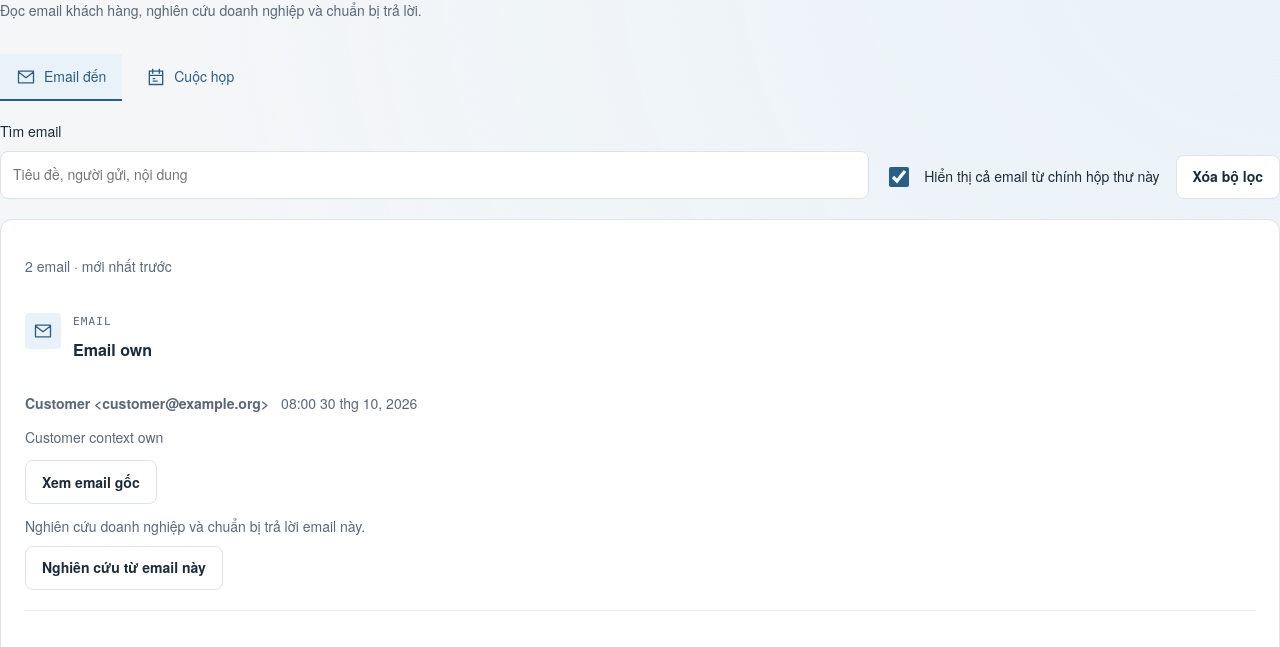
Test: inbox source workspace › filters own-mailbox email and restores the selected filter from the URL
Expected: the heading "Email own" is shown, [73, 338, 152, 360]
Click the checkbox.
click(899, 177)  # box [889, 167, 909, 187]
(page scrolled)
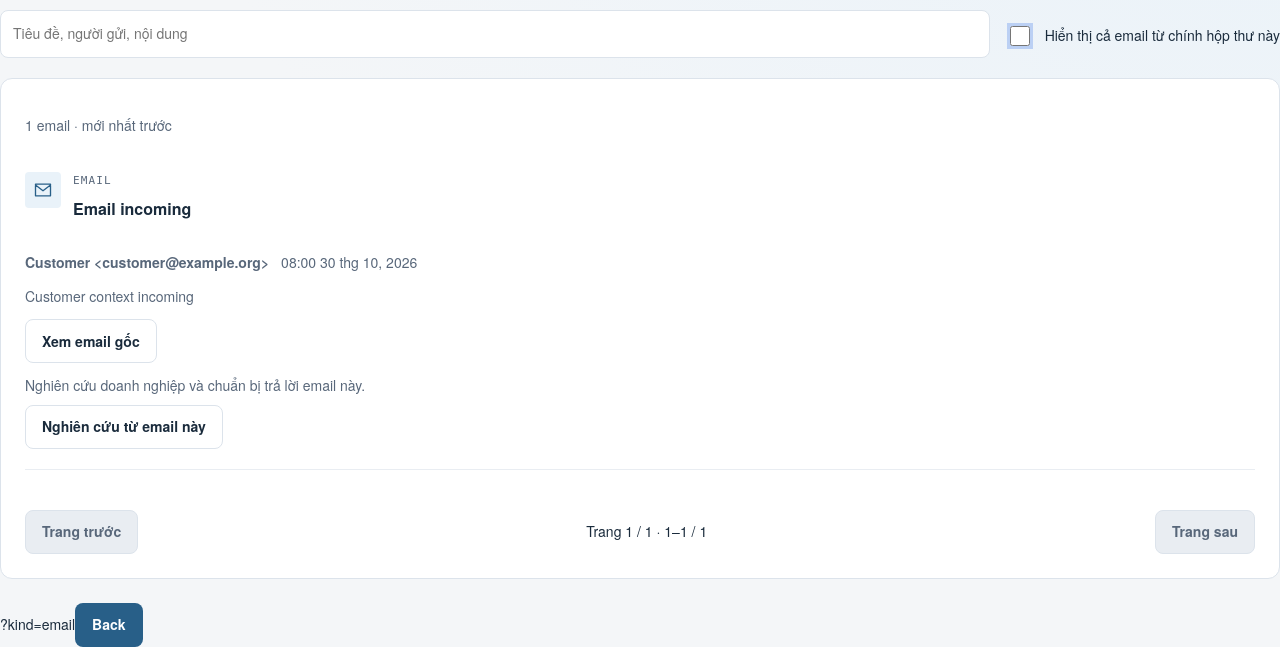
Expected: the heading "Email incoming" is shown, [73, 196, 191, 220]
Expected: the heading "Email own" is gone
